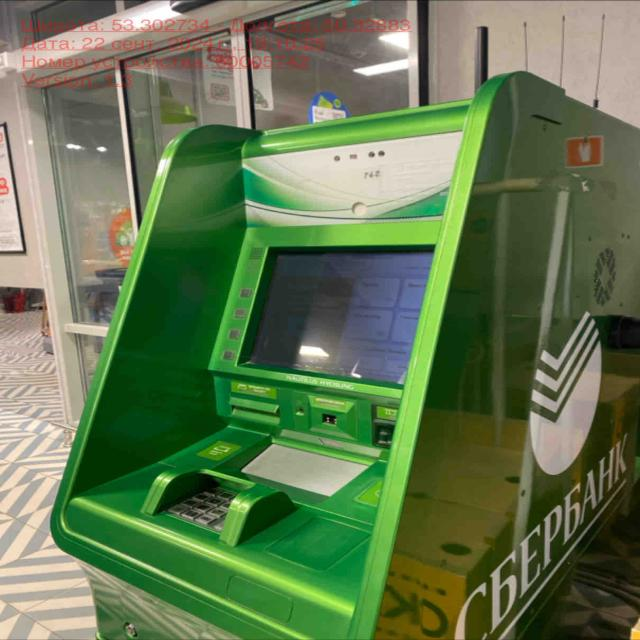bank: (49, 71, 640, 640)
